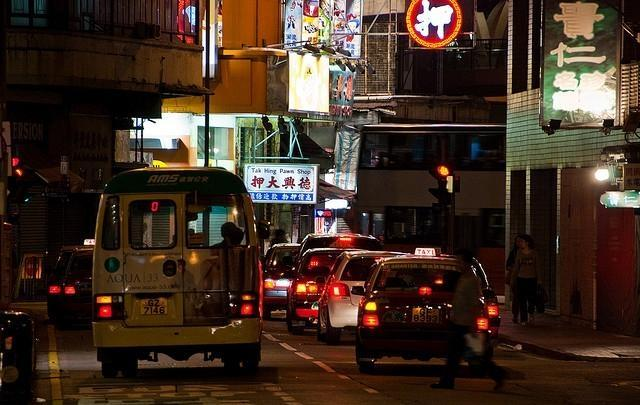bus: (95, 168, 264, 377)
car: (356, 248, 492, 374), (316, 250, 409, 342), (286, 248, 368, 336), (53, 243, 95, 332), (262, 243, 301, 320), (296, 231, 382, 258), (46, 246, 74, 318)
